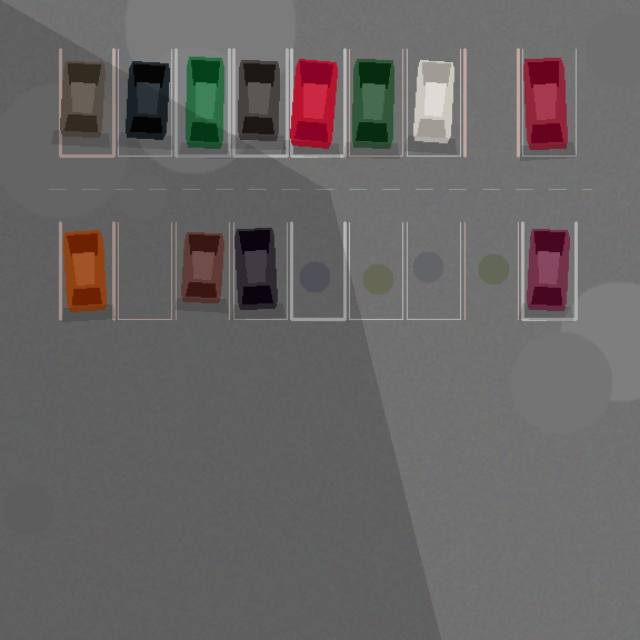space-empty: (464, 49, 518, 156), (464, 222, 518, 319), (118, 222, 171, 319), (291, 222, 344, 319), (349, 222, 402, 319), (407, 222, 460, 319)
space-occupied: (233, 49, 287, 156), (522, 49, 576, 156), (60, 49, 113, 156), (118, 49, 171, 156), (176, 49, 229, 156), (291, 49, 344, 156), (349, 49, 402, 156), (407, 49, 460, 156), (233, 222, 287, 319), (522, 222, 576, 319), (60, 222, 113, 319), (176, 222, 229, 319)
